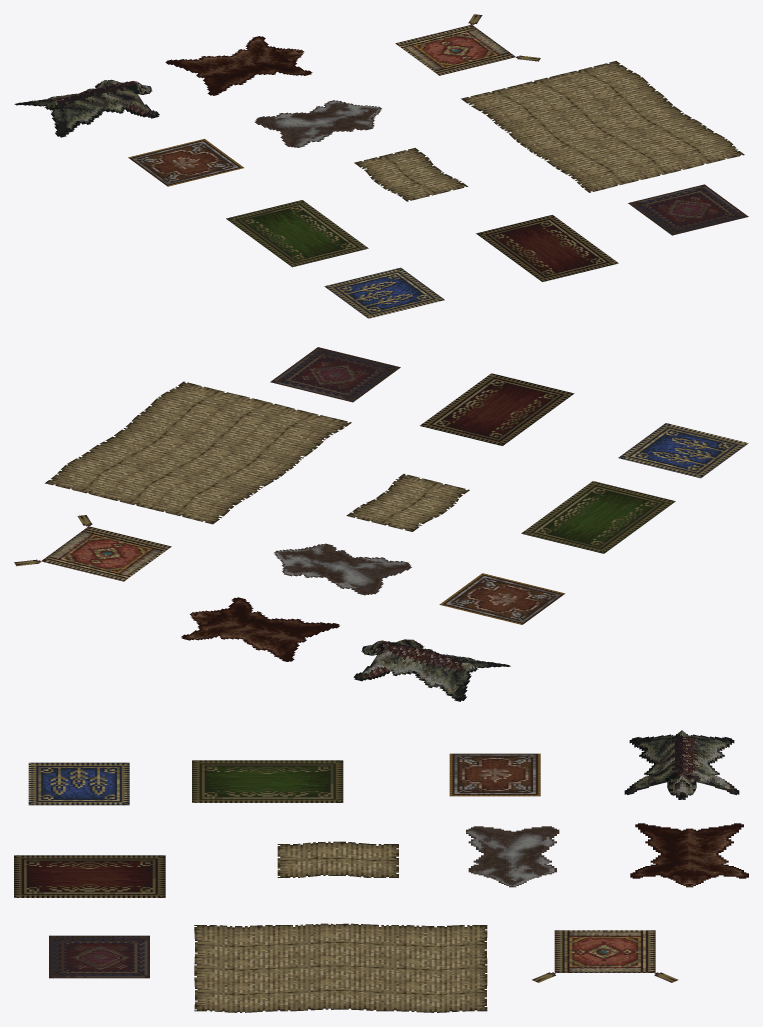
File: EnvObjMD_Mat_A_Green_A.FBX
3 renders of one model, top to bottom at view 1: azimuth 30°, elevation 25°; view 2: azimuth 150°, elevation 25°; view 3: azimuth 270°, elevation 25°, orthographic. The views are drawn at different scales.
Parts seen in each view (by area): view 1: EnvObjMD_Mat_B_RushMat_A_Large, EnvObjMD_Mat_A_Green_A, EnvObjMD_Mat_A_Red_A, EnvObjMD_Mat_Bear_A, EnvObjMD_Mat_HouseEnter_Forest_A, EnvObjMD_Mat_Bear_B_FrostBear, EnvObjMD_Mat_Daiseidou_A, EnvObjMD_Mat_A_Square_A, EnvObjMD_Mat_Cow_A, EnvObjMD_Mat_B_RushMat_A, EnvObjMD_Mat_HouseEnter_A; view 2: EnvObjMD_Mat_B_RushMat_A_Large, EnvObjMD_Mat_A_Green_A, EnvObjMD_Mat_A_Red_A, EnvObjMD_Mat_Bear_A, EnvObjMD_Mat_HouseEnter_Forest_A, EnvObjMD_Mat_Bear_B_FrostBear, EnvObjMD_Mat_A_Square_A, EnvObjMD_Mat_Daiseidou_A, EnvObjMD_Mat_Cow_A, EnvObjMD_Mat_B_RushMat_A, EnvObjMD_Mat_HouseEnter_A; view 3: EnvObjMD_Mat_B_RushMat_A_Large, EnvObjMD_Mat_A_Green_A, EnvObjMD_Mat_A_Red_A, EnvObjMD_Mat_Bear_A, EnvObjMD_Mat_Bear_B_FrostBear, EnvObjMD_Mat_HouseEnter_Forest_A, EnvObjMD_Mat_Daiseidou_A, EnvObjMD_Mat_A_Square_A, EnvObjMD_Mat_Cow_A, EnvObjMD_Mat_B_RushMat_A, EnvObjMD_Mat_HouseEnter_A.
Part boxes in pixels (x1,y1,x2,y2): EnvObjMD_Mat_B_RushMat_A_Large: (461, 61, 744, 192); EnvObjMD_Mat_A_Green_A: (226, 200, 368, 267); EnvObjMD_Mat_A_Red_A: (476, 215, 618, 281); EnvObjMD_Mat_Bear_A: (165, 36, 312, 95); EnvObjMD_Mat_HouseEnter_Forest_A: (395, 14, 540, 75); EnvObjMD_Mat_Bear_B_FrostBear: (14, 79, 159, 137); EnvObjMD_Mat_Daiseidou_A: (324, 267, 444, 318); EnvObjMD_Mat_A_Square_A: (628, 184, 748, 235); EnvObjMD_Mat_Cow_A: (254, 100, 381, 147); EnvObjMD_Mat_B_RushMat_A: (354, 148, 468, 201); EnvObjMD_Mat_HouseEnter_A: (128, 139, 243, 186); EnvObjMD_Mat_B_RushMat_A_Large: (45, 381, 351, 524); EnvObjMD_Mat_A_Green_A: (521, 481, 675, 553); EnvObjMD_Mat_A_Red_A: (420, 373, 574, 445); EnvObjMD_Mat_Bear_A: (181, 597, 339, 661); EnvObjMD_Mat_HouseEnter_Forest_A: (14, 515, 171, 581); EnvObjMD_Mat_Bear_B_FrostBear: (353, 639, 510, 701); EnvObjMD_Mat_A_Square_A: (270, 347, 400, 402); EnvObjMD_Mat_Daiseidou_A: (618, 423, 748, 478); EnvObjMD_Mat_Cow_A: (274, 543, 411, 595); EnvObjMD_Mat_B_RushMat_A: (346, 474, 469, 531); EnvObjMD_Mat_HouseEnter_A: (439, 573, 565, 624); EnvObjMD_Mat_B_RushMat_A_Large: (194, 923, 487, 1012); EnvObjMD_Mat_A_Green_A: (192, 760, 343, 802); EnvObjMD_Mat_A_Red_A: (14, 855, 165, 897); EnvObjMD_Mat_Bear_A: (630, 823, 748, 887); EnvObjMD_Mat_Bear_B_FrostBear: (624, 730, 739, 799); EnvObjMD_Mat_HouseEnter_Forest_A: (532, 930, 678, 982); EnvObjMD_Mat_Daiseidou_A: (28, 762, 129, 805); EnvObjMD_Mat_A_Square_A: (49, 935, 149, 978); EnvObjMD_Mat_Cow_A: (466, 826, 559, 887); EnvObjMD_Mat_B_RushMat_A: (277, 841, 398, 877); EnvObjMD_Mat_HouseEnter_A: (449, 753, 540, 796).
Bounding box in the file's own units: 1295 × 47.45 × 1455.
8 materials, 8 textured.
